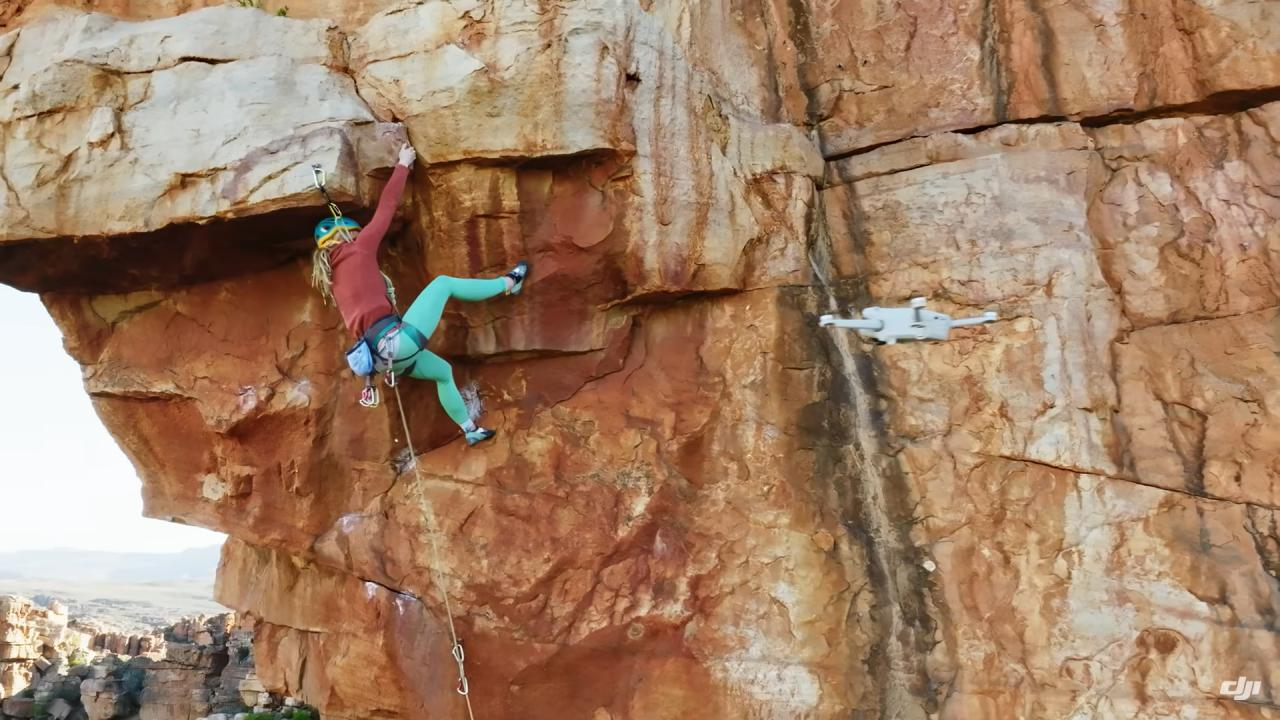Drone: (792, 286, 1013, 364)
